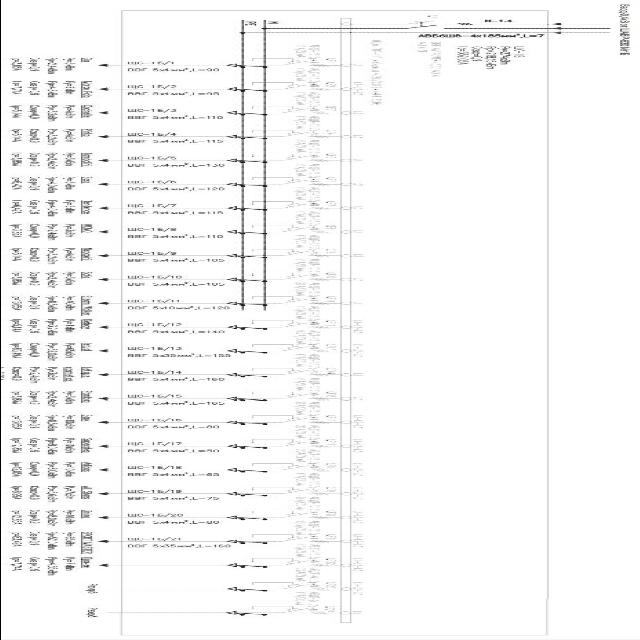-: (414, 40, 444, 76), (290, 91, 322, 111), (290, 401, 322, 421), (290, 210, 322, 230), (288, 186, 320, 206), (290, 568, 322, 588), (290, 376, 322, 396), (290, 234, 322, 254), (289, 305, 321, 325), (289, 68, 321, 88), (289, 330, 321, 350), (289, 472, 321, 492), (290, 590, 322, 610), (288, 139, 320, 159), (289, 544, 321, 564), (290, 496, 322, 516), (290, 115, 322, 135), (288, 448, 320, 468), (288, 282, 320, 302), (290, 520, 322, 540), (288, 353, 320, 373), (288, 258, 320, 278), (289, 162, 321, 182), (291, 44, 323, 64), (289, 424, 321, 444), (368, 40, 384, 72)
QF: (404, 18, 447, 31), (280, 344, 316, 352), (279, 226, 315, 234), (278, 488, 314, 495), (280, 465, 316, 472), (278, 417, 314, 424), (278, 394, 314, 401), (278, 368, 314, 375), (279, 202, 315, 209), (278, 178, 314, 185), (278, 155, 314, 162), (277, 107, 313, 114), (280, 60, 316, 67), (280, 608, 316, 615), (277, 583, 313, 590), (279, 559, 315, 566), (280, 535, 316, 542), (280, 511, 316, 518), (277, 442, 313, 448), (280, 322, 316, 328), (279, 298, 315, 304), (280, 274, 316, 280), (279, 250, 315, 256), (277, 132, 313, 138), (278, 84, 314, 90)
